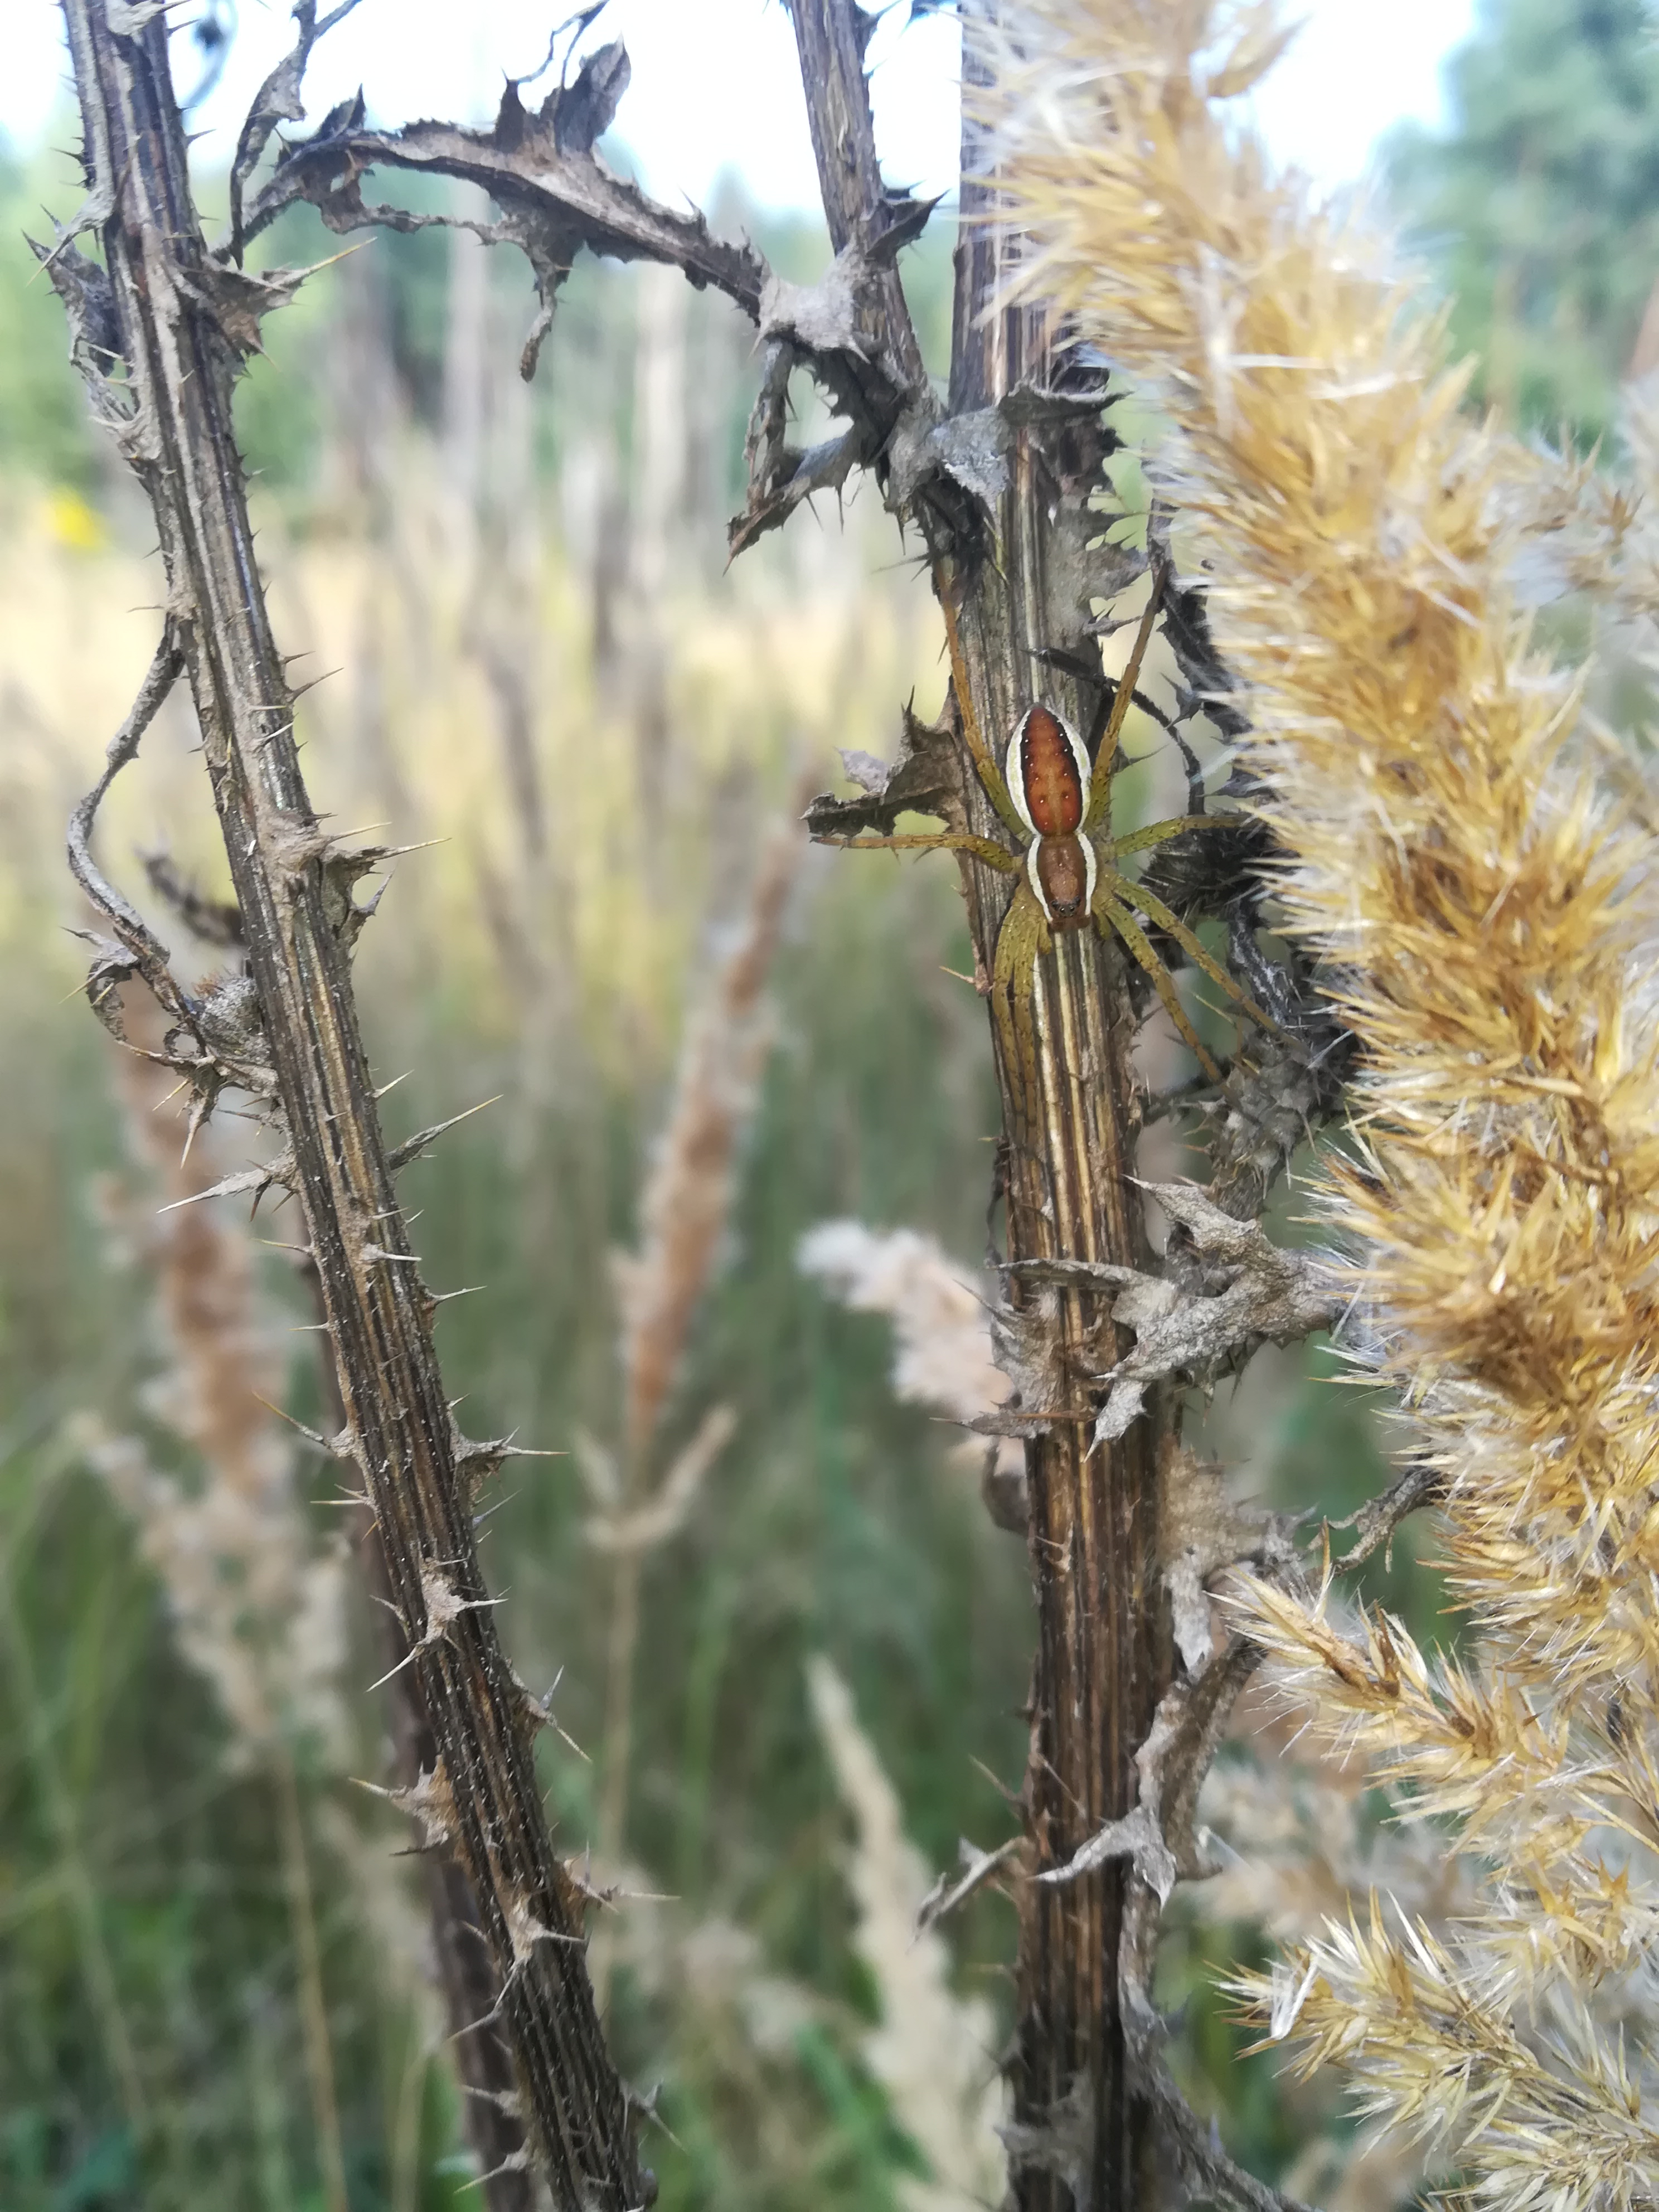spider: (802, 502, 1338, 1162)
